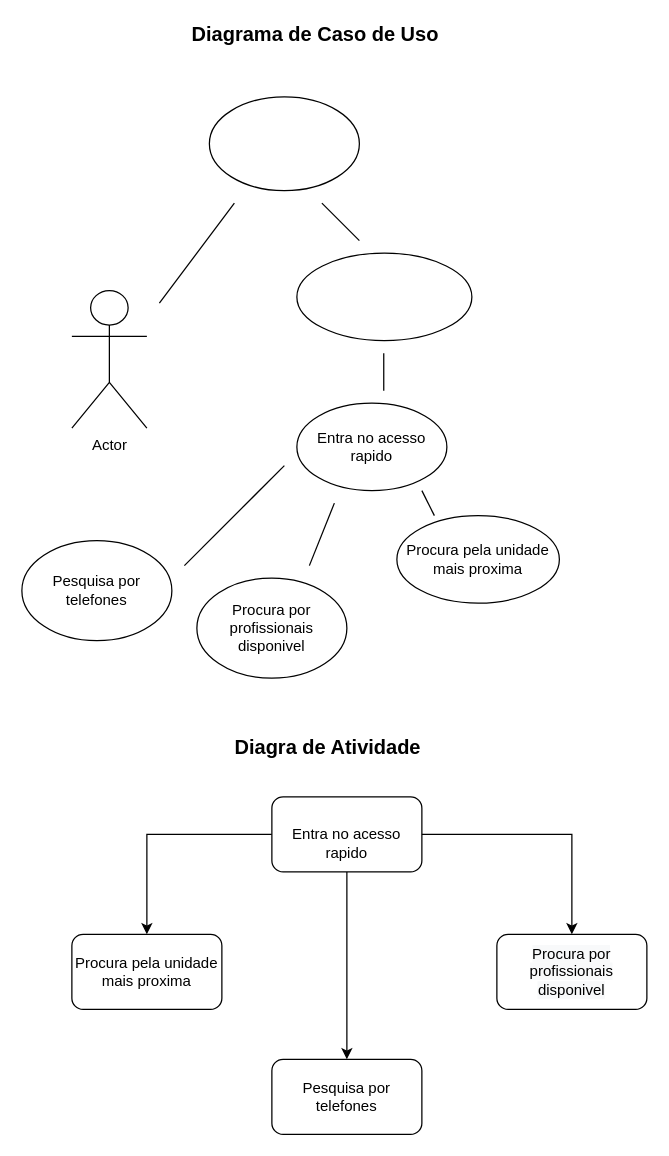
The diagram is 669 pixels wide and 1156 high, and some of its shapes have lost their labels. Each missing label, with the box of its shape:
Acessa o App: (208, 96, 359, 191)
Navega pelo Menu: (296, 252, 472, 341)
